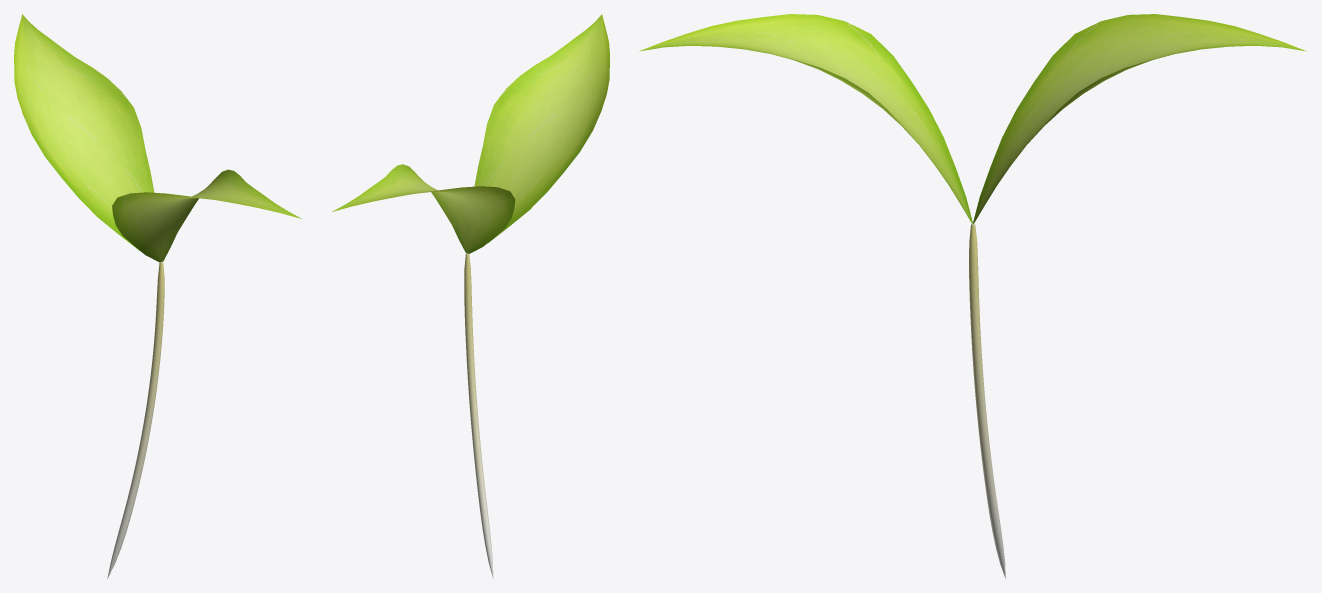
Rendered from 生長1(改中心點).FBX.
3 views of the same model, side by side, from view 1: azimuth 30°, elevation 25°; view 2: azimuth 150°, elevation 25°; view 3: azimuth 270°, elevation 25° (orthographic). The views are drawn at different scales.
Visible parts, largest first — view 1: Plane003, Plane002, Cylinder001; view 2: Plane002, Plane003, Cylinder001; view 3: Plane002, Plane003, Cylinder001.
Part boxes in pixels (<box>): Plane003: <box>14,14,154,251</box>; Plane002: <box>112,169,302,262</box>; Cylinder001: <box>107,262,164,578</box>; Plane002: <box>474,14,609,243</box>; Plane003: <box>332,164,515,253</box>; Cylinder001: <box>464,253,493,578</box>; Plane002: <box>639,14,972,224</box>; Plane003: <box>973,14,1306,224</box>; Cylinder001: <box>969,223,1005,578</box>.
Size of the model in its own units: 7.09 by 30.48 by 33.33.
Materials: 2 (2 with a texture image).
